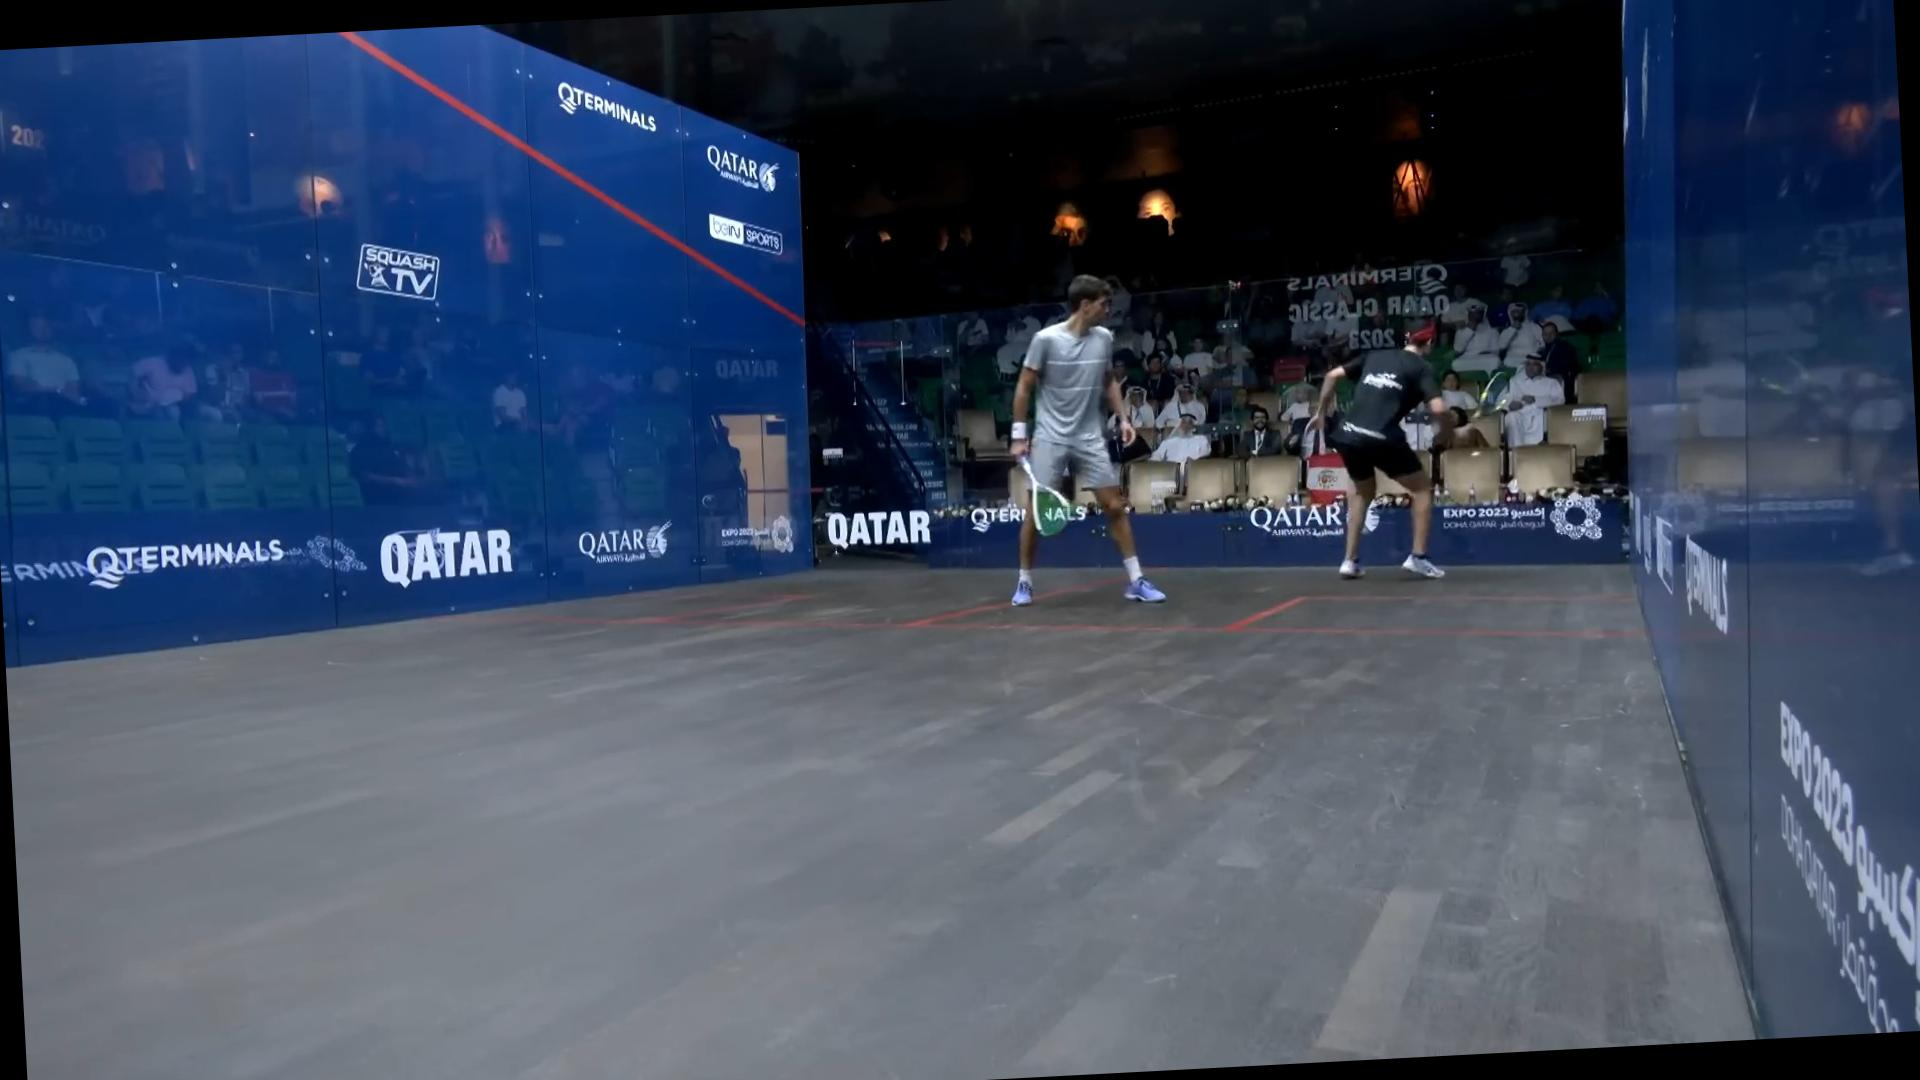Racket: (1015, 451, 1080, 539), (1461, 365, 1530, 430)
